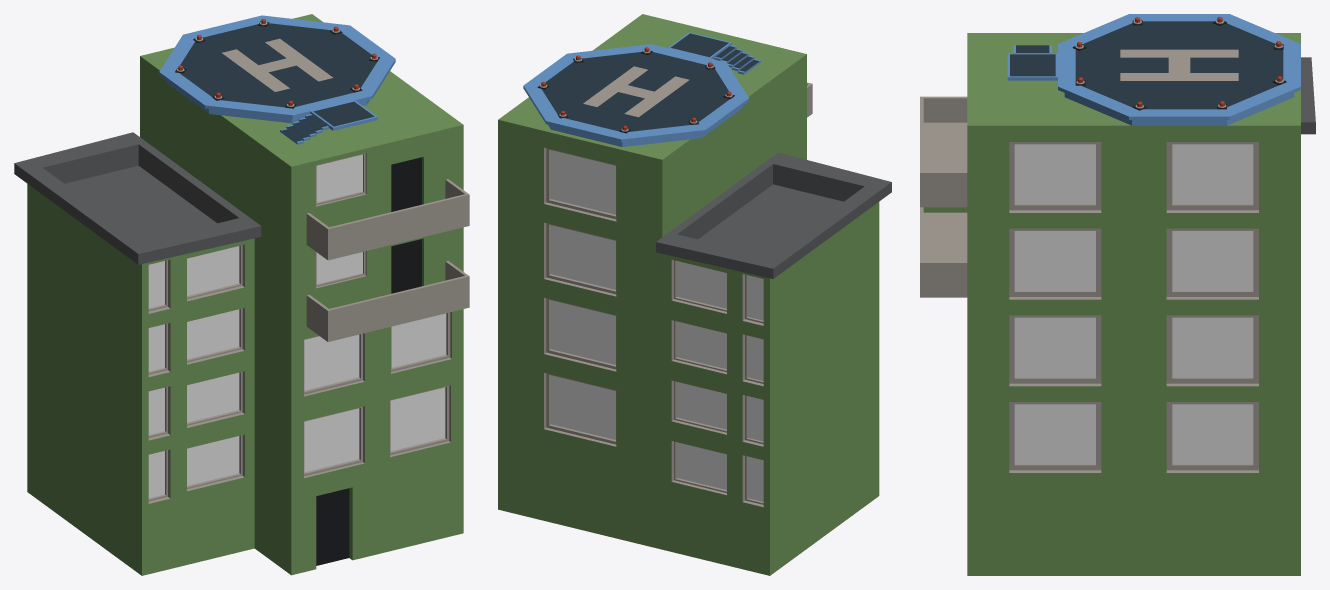
Rendered from SM_House_78_B.gltf.
The picture shows the model from 3 angles, left to right: view 1: azimuth 30°, elevation 25°; view 2: azimuth 150°, elevation 25°; view 3: azimuth 270°, elevation 25°; orthographic projection. The views are drawn at different scales.
Parts seen in each view (by area): view 1: SM_House_78_B; view 2: SM_House_78_B; view 3: SM_House_78_B.
Boxes of the visible parts, x1,y1,x2,y2 form: SM_House_78_B: (14,14,469,575); SM_House_78_B: (498,14,891,575); SM_House_78_B: (920,14,1315,575).
Size of the model in its own units: 3.89 by 5.29 by 4.05.
